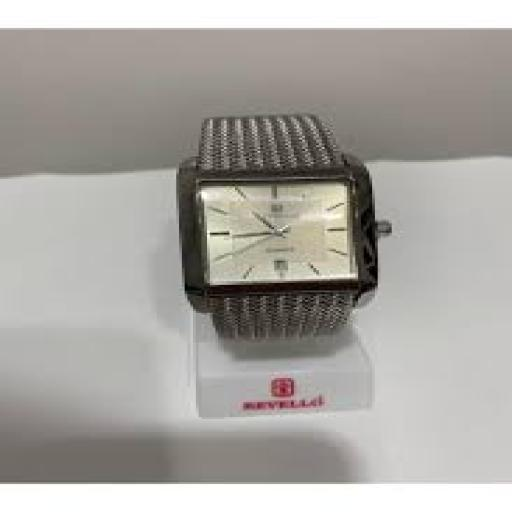KolSaati: (108, 97, 460, 429)
